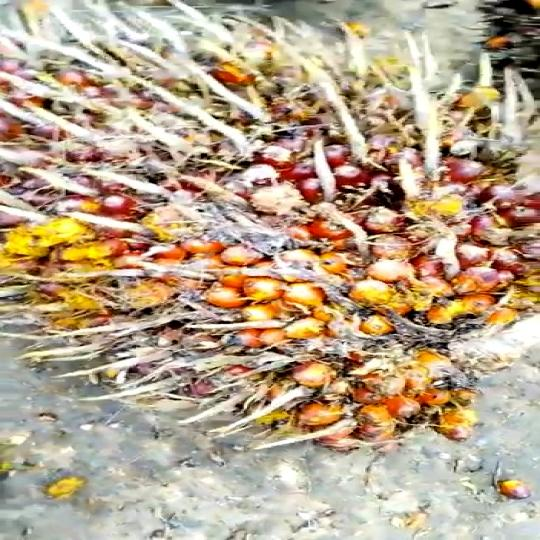masak: (0, 16, 540, 445)
